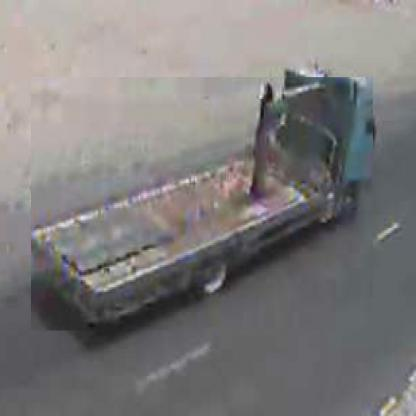container: (31, 78, 374, 333)
